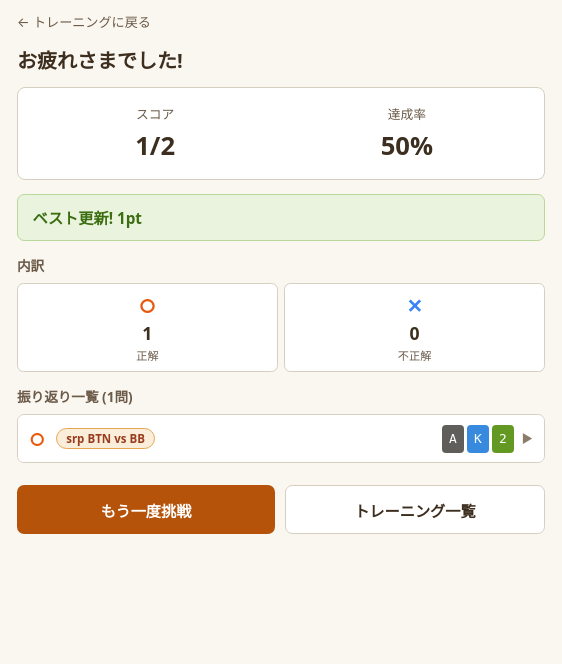
TrainingResultFlop 振り返り › 問題をタップすると展開し、2択枠に「あなた」「正解」バッジが出る
Expected: the text "あなた" is not shown
Click the button "○ srp BTN vs BB A K 2 ▶". click: coordinates (106, 439)
box: x1=18 y1=415 x2=544 y2=462
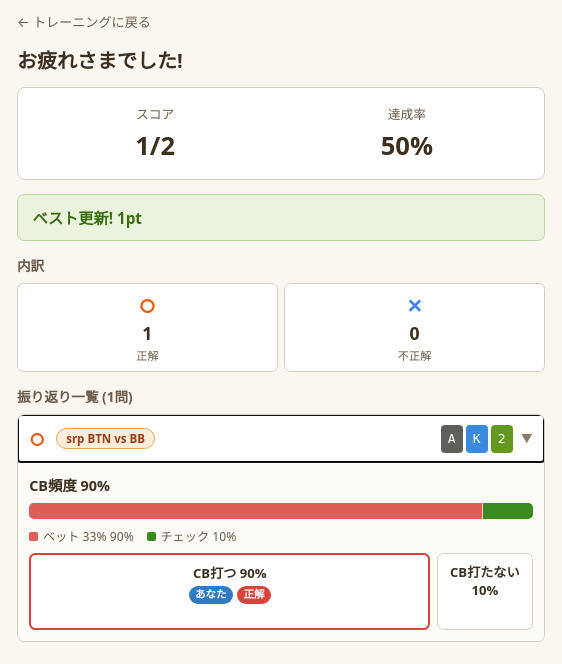
Now the text "CB打つ 90%" is shown, box x1=193 y1=563 x2=267 y2=582
Now the text "CB打たない 10%" is shown, box x1=444 y1=562 x2=525 y2=599
Now the text "あなた" is shown, box x1=189 y1=586 x2=233 y2=604
